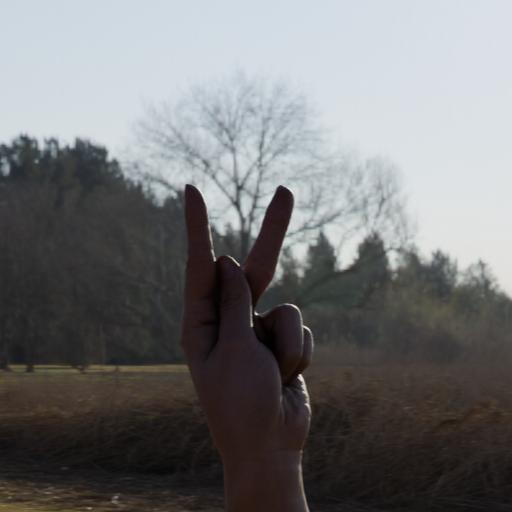K: (162, 171, 344, 495)
